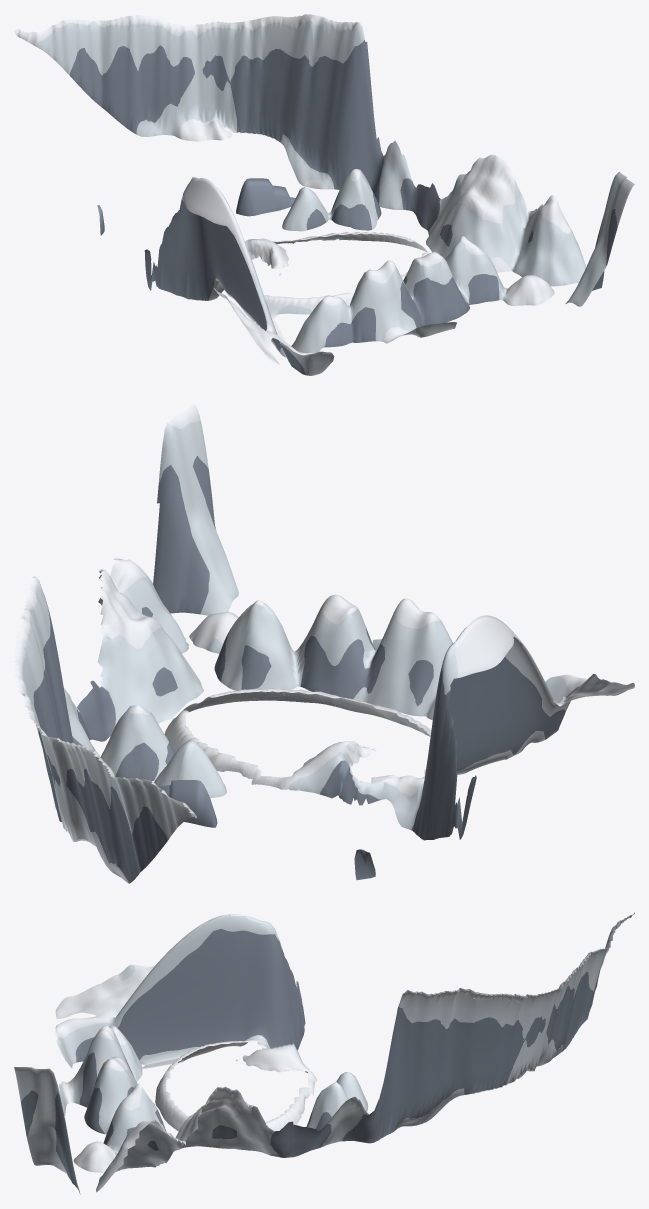
Rendered from CumbreMontanas.glb.
The picture shows the model from 3 angles, top to bottom: view 1: azimuth 30°, elevation 25°; view 2: azimuth 150°, elevation 25°; view 3: azimuth 270°, elevation 25°; orthographic projection. The views are drawn at different scales.
Visible parts, largest first — view 1: CumbreLaderasNevadas; view 2: CumbreLaderasNevadas; view 3: CumbreLaderasNevadas.
Part boxes in pixels (bbox=[...]): CumbreLaderasNevadas: bbox=[14, 14, 634, 375]; CumbreLaderasNevadas: bbox=[14, 404, 634, 883]; CumbreLaderasNevadas: bbox=[14, 912, 634, 1194].
Bounding box in the file's own units: 144 × 70.68 × 220.
